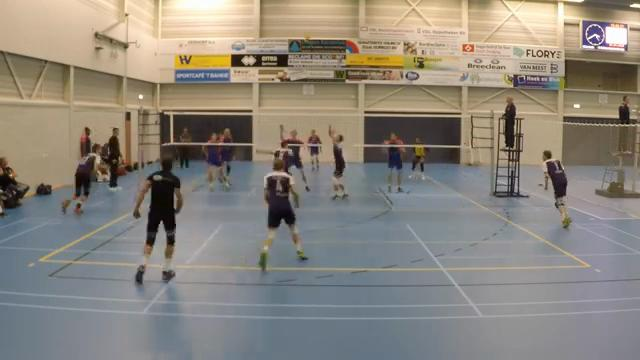alzata: (321, 120, 354, 203)
